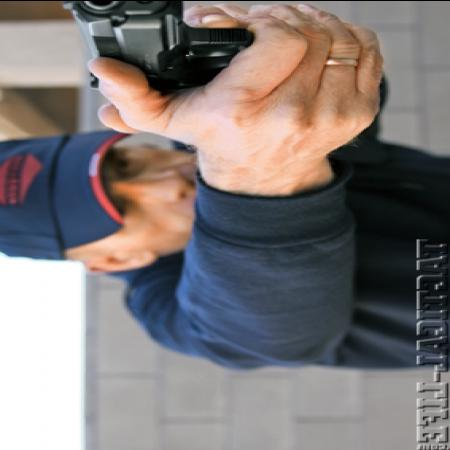Pistol: (54, 2, 254, 99)
